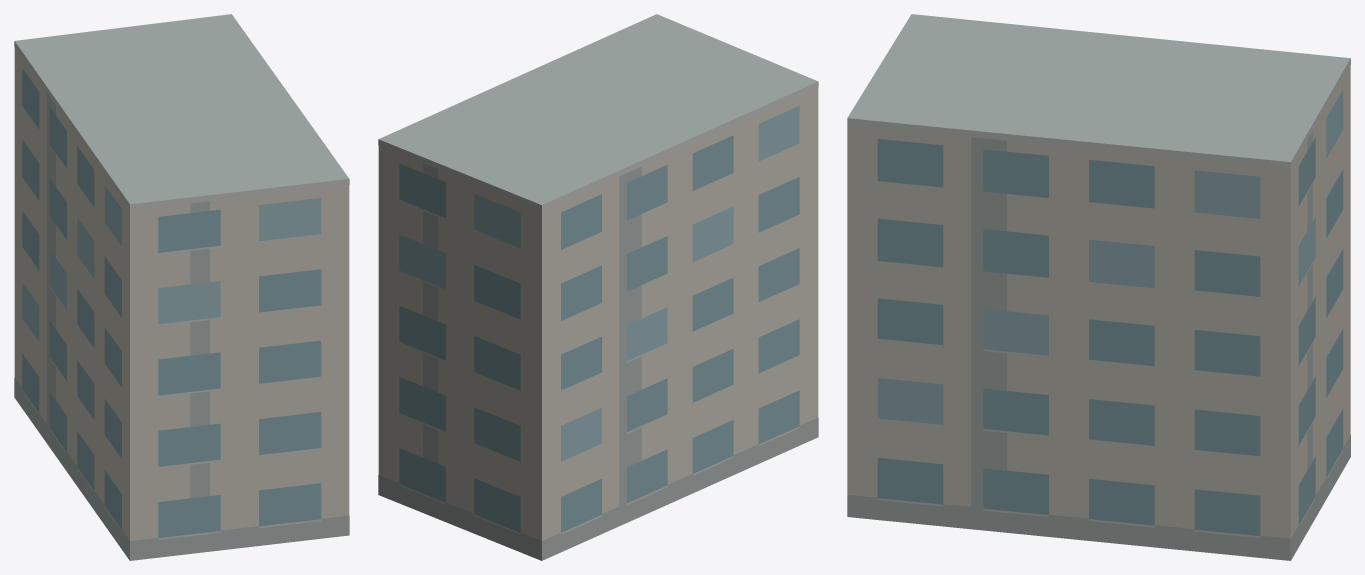
The model's file is survey-upis-32850274.glb.
3 renders of one model, left to right at view 1: azimuth 30°, elevation 25°; view 2: azimuth 150°, elevation 25°; view 3: azimuth 270°, elevation 25°, orthographic. The views are drawn at different scales.
Visible parts, largest first — view 1: survey-upis-32850274.tmp; view 2: survey-upis-32850274.tmp; view 3: survey-upis-32850274.tmp.
Boxes of the visible parts, box(x1,y1,x2,y2) form: survey-upis-32850274.tmp: box(14, 14, 349, 560); survey-upis-32850274.tmp: box(378, 14, 818, 560); survey-upis-32850274.tmp: box(847, 14, 1350, 560).
Bounding box in the file's own units: 11.5 × 14.43 × 16.52.
